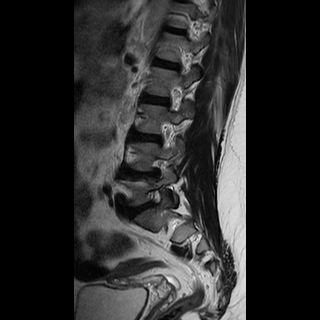LFS0: (141, 182, 164, 212)
